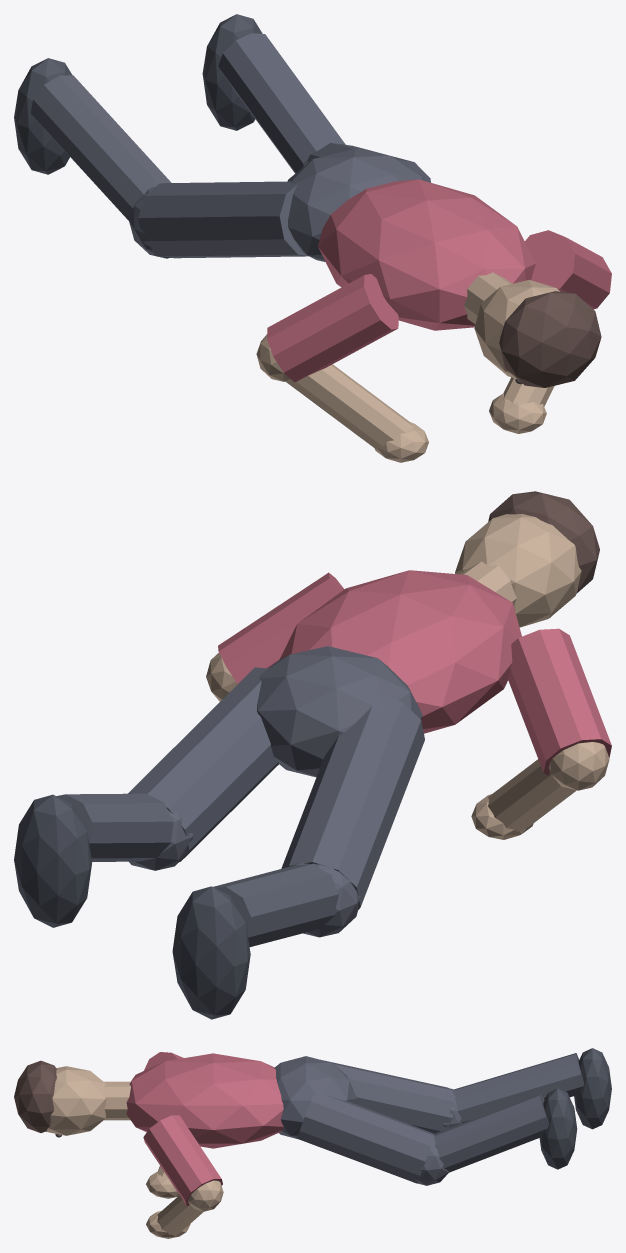
The picture shows the model from 3 angles, top to bottom: view 1: azimuth 30°, elevation 25°; view 2: azimuth 150°, elevation 25°; view 3: azimuth 270°, elevation 25°; orthographic projection. The views are drawn at different scales.
Visible parts, largest first — view 1: world; view 2: world; view 3: world.
Part boxes in pixels (bbox=[...]): world: bbox=[14, 14, 611, 462]; world: bbox=[14, 491, 611, 1019]; world: bbox=[14, 1048, 611, 1238].
Size of the model in its own units: 0.93 by 0.565 by 2.
